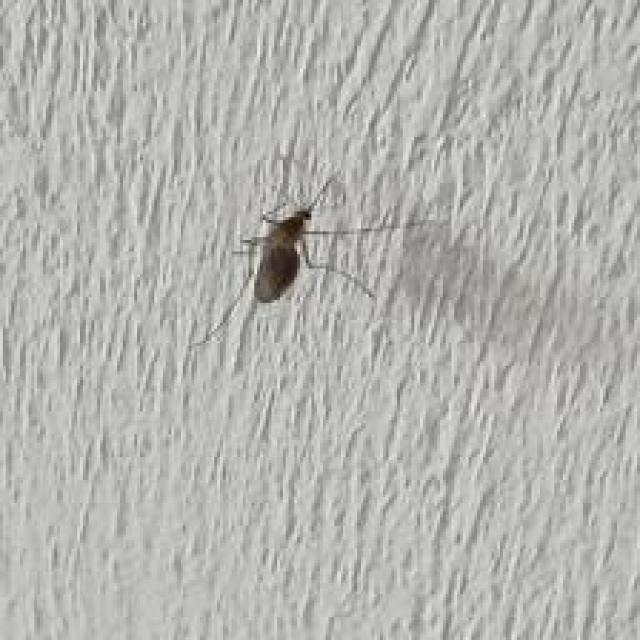Culex: (192, 173, 448, 347)
